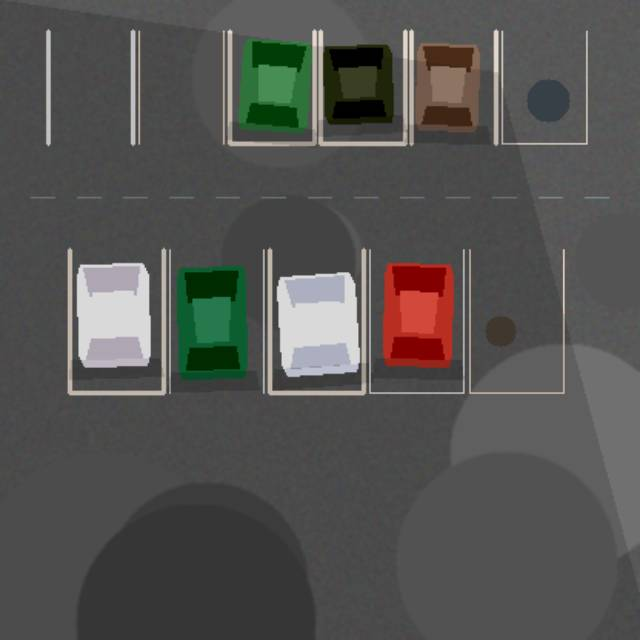space-empty: (469, 249, 563, 392), (138, 31, 223, 143), (48, 31, 132, 143), (502, 31, 586, 143)
space-occupied: (69, 249, 163, 392), (169, 249, 263, 392), (269, 249, 363, 392), (369, 249, 463, 392), (229, 31, 314, 143), (320, 31, 405, 143), (411, 31, 495, 143)
